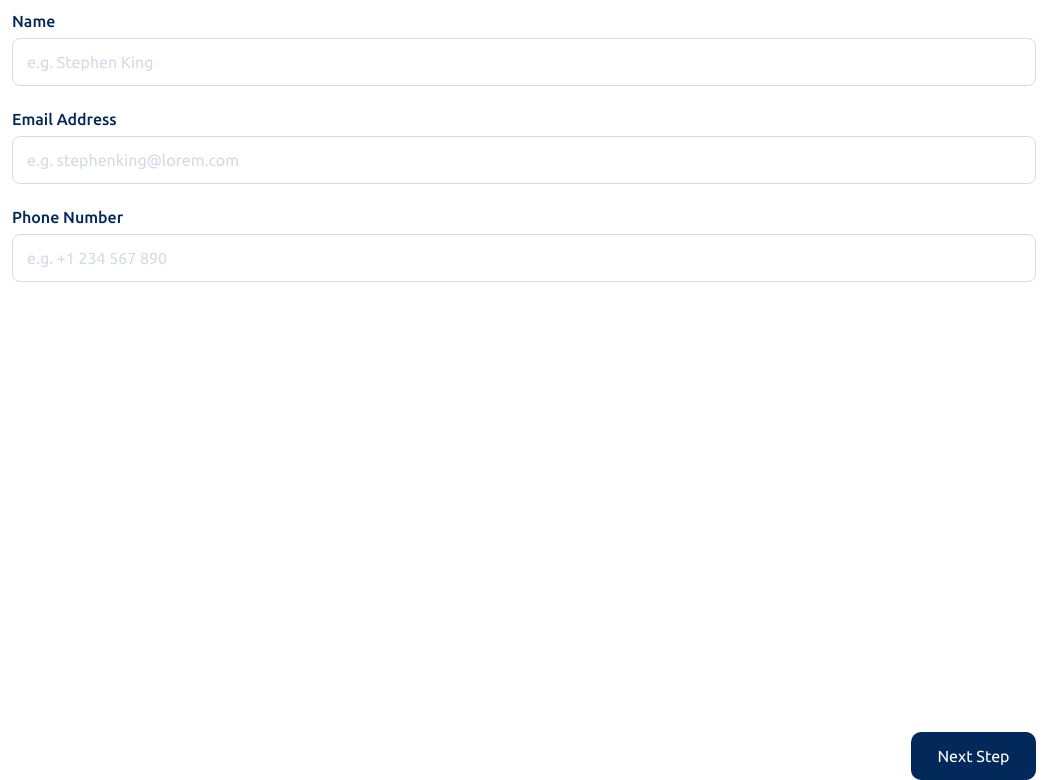
it: Form › submits the form with no name
In the field with placeholder "e.g. stephenking@lorem.com": (524, 160) [12, 136, 1036, 184], type "john.doe@example.com"
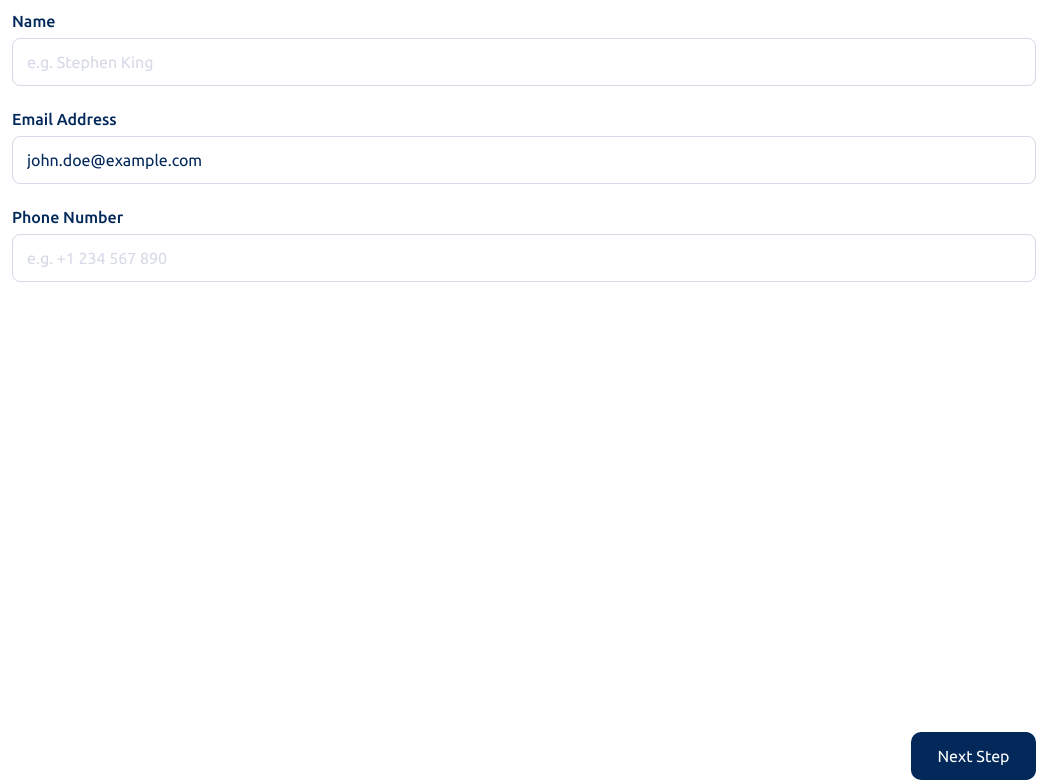
In the number field with placeholder "e.g. +1 234 567 890": (524, 258) [12, 234, 1036, 282], type "1234567890"
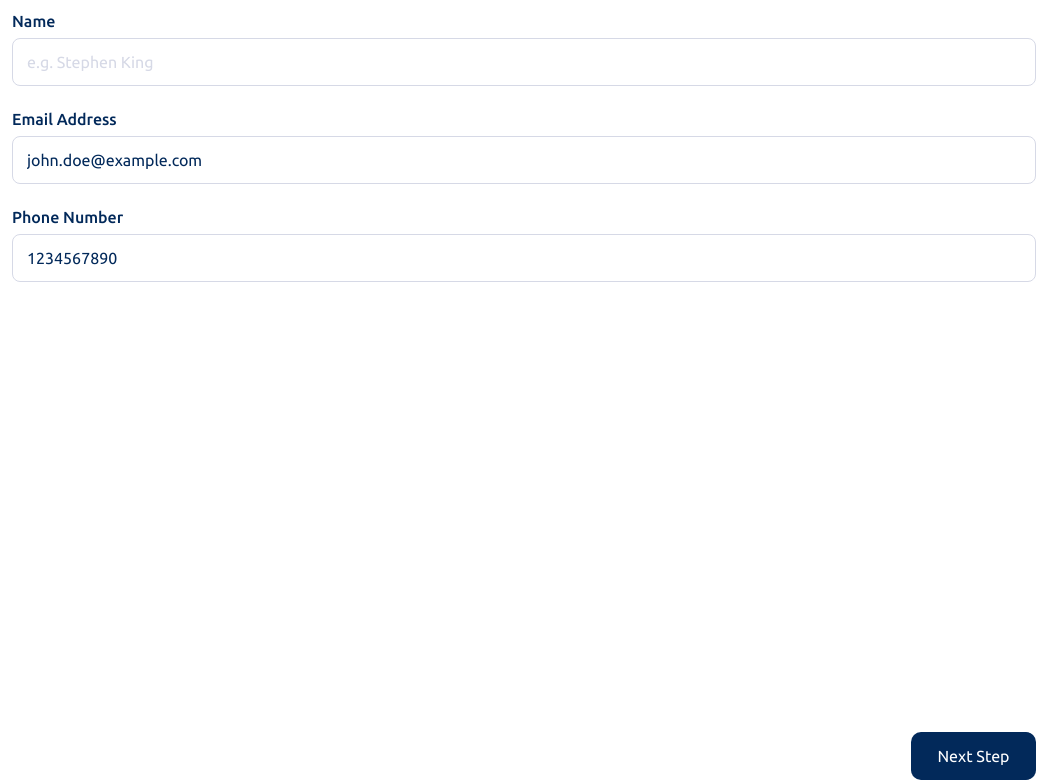
Click the button "Next Step": (974, 756) [911, 732, 1036, 779]
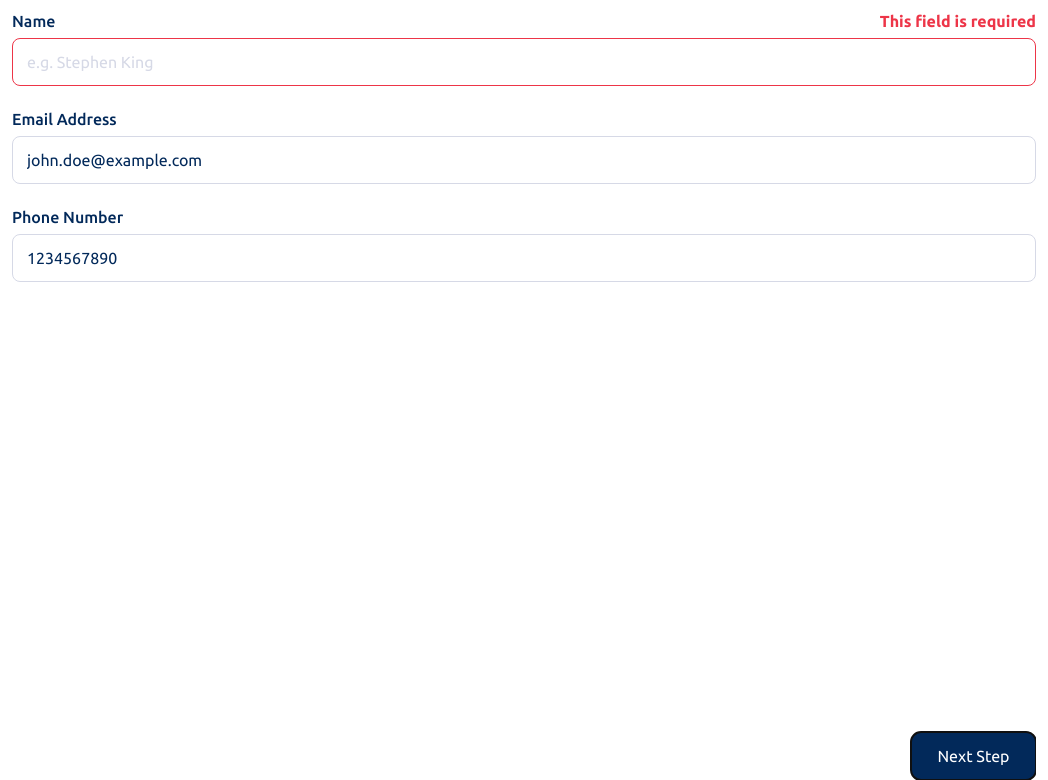
Result: the text "This field is required" is shown at [880, 12, 1036, 30]
